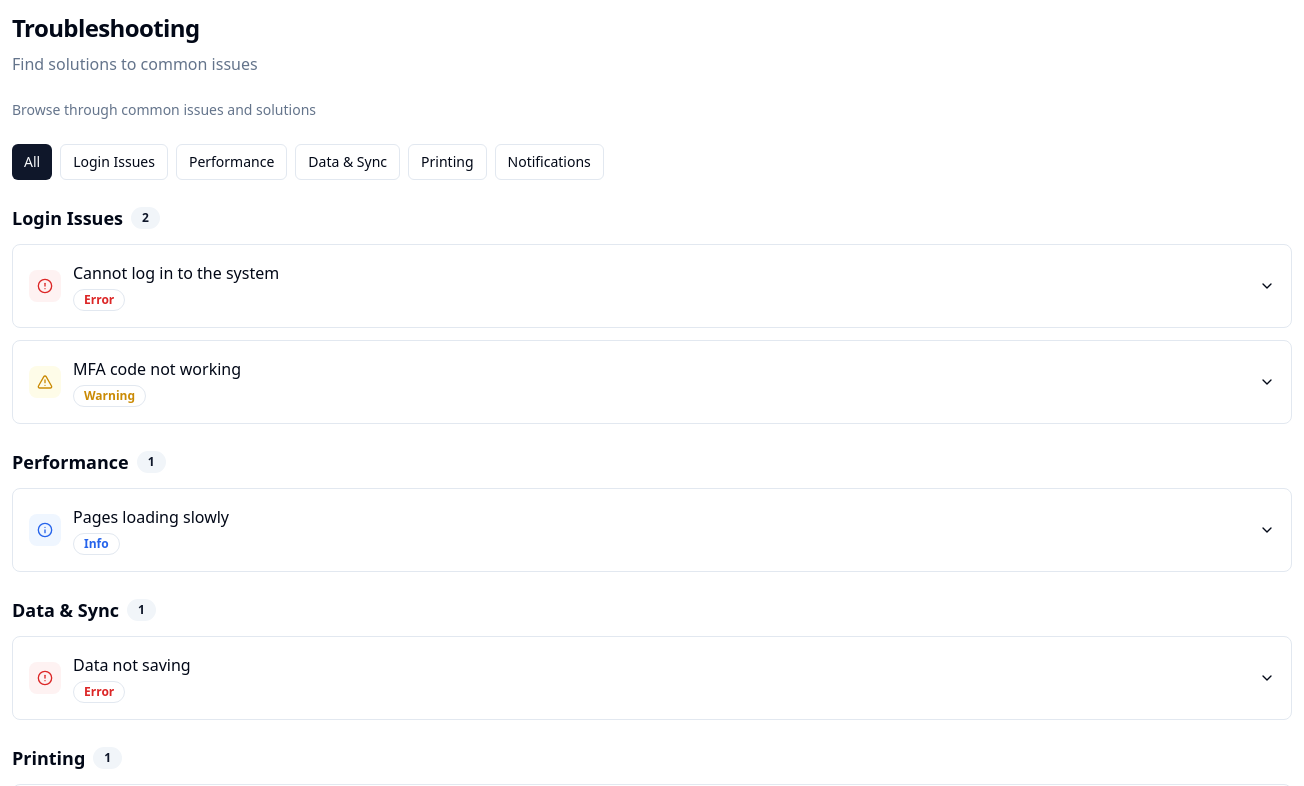
Test: TroubleshootingSection › Category Filtering › filters items by category when category button is clicked
Click on Login Issues category
Click the button "Login Issues". click: (114, 162)
box: [60,144,168,180]
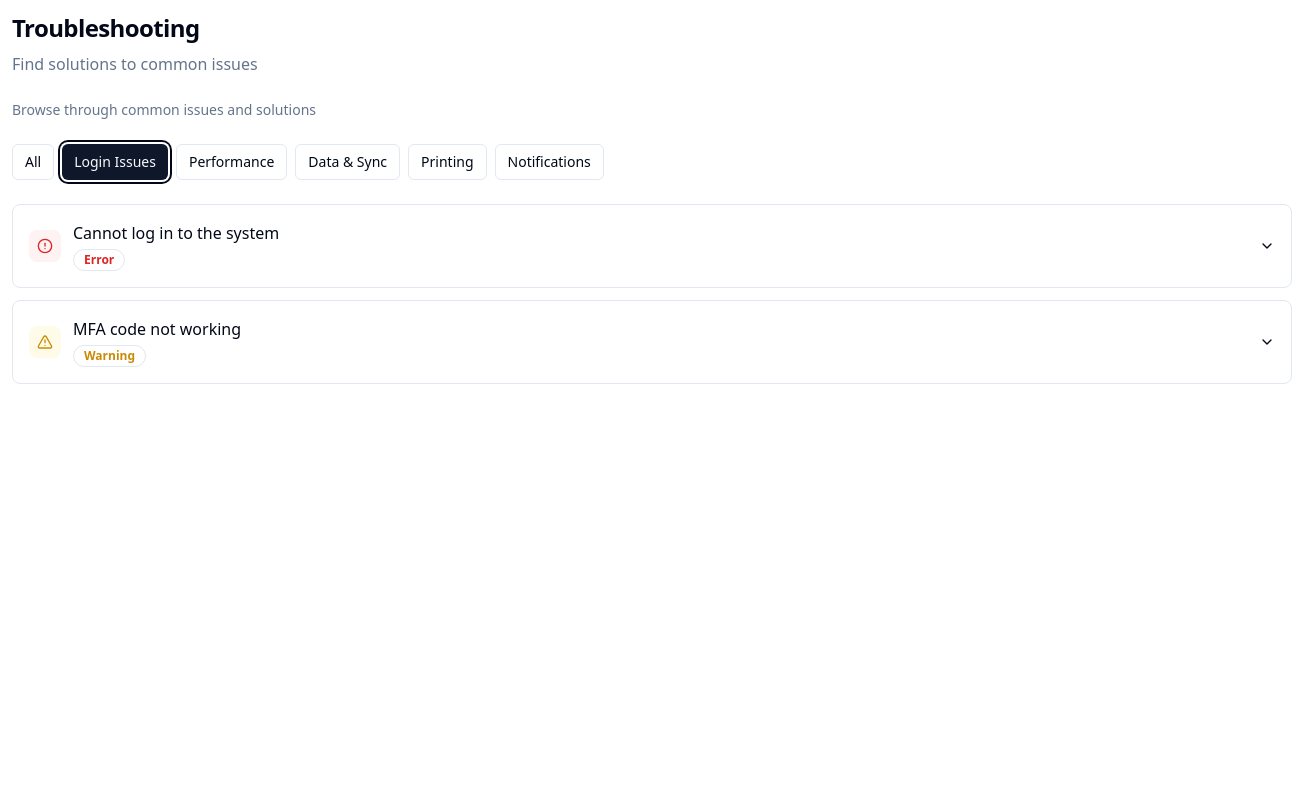
Expected: the text "Cannot log in to the system" is shown, [73,221,279,245]
Result: the button "Pages loading slowly" is gone
